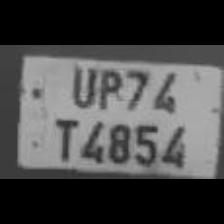4: (146, 65, 182, 113), (76, 115, 106, 163), (158, 119, 187, 167)
5: (131, 117, 158, 165)
7: (120, 63, 148, 111)
8: (104, 117, 130, 163)
P: (94, 65, 122, 109)
T: (46, 112, 80, 162)
U: (66, 63, 96, 107)
